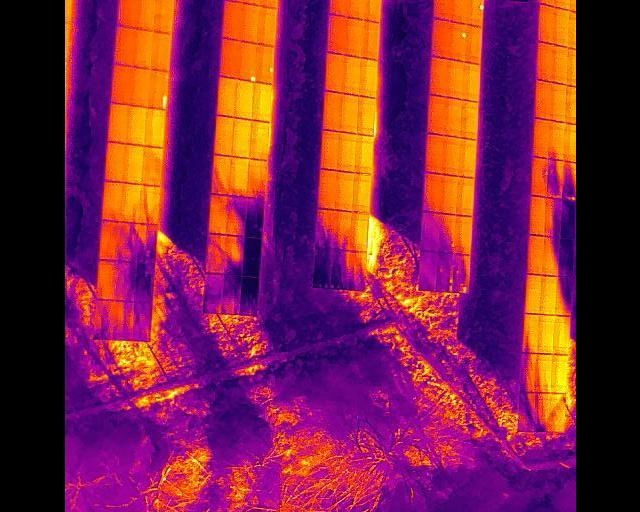Cell: (448, 22, 467, 62), (238, 42, 256, 83), (256, 44, 272, 84), (561, 161, 576, 200)
Cell-Multi: (450, 254, 469, 293), (436, 253, 452, 292), (466, 0, 483, 26)
No-Anomaly: (105, 105, 127, 144), (219, 37, 238, 79), (213, 116, 232, 158), (232, 117, 250, 161), (141, 147, 161, 186), (100, 183, 120, 222), (326, 52, 345, 93), (113, 28, 134, 65), (257, 6, 276, 46), (208, 195, 227, 235), (121, 183, 140, 223), (98, 222, 117, 262), (328, 14, 347, 54), (230, 156, 248, 198), (221, 0, 239, 42), (217, 76, 235, 118), (420, 172, 438, 214), (248, 159, 267, 198), (130, 68, 149, 107), (111, 65, 130, 104), (104, 143, 123, 182), (321, 129, 339, 170), (127, 107, 146, 145), (97, 261, 116, 299), (549, 355, 568, 393), (151, 33, 170, 70), (144, 110, 163, 147), (253, 83, 271, 122), (457, 138, 475, 177), (440, 135, 458, 174), (430, 19, 448, 58), (360, 58, 378, 97), (240, 3, 257, 44), (355, 134, 372, 175), (531, 119, 548, 159), (444, 59, 461, 99), (439, 174, 456, 214), (427, 95, 444, 135), (424, 133, 441, 173), (325, 92, 342, 132), (318, 171, 335, 211), (352, 172, 368, 214), (534, 83, 552, 120), (460, 63, 478, 100), (249, 121, 266, 160), (535, 43, 552, 82), (459, 100, 476, 139), (453, 216, 470, 255), (552, 316, 569, 355), (362, 20, 379, 59), (539, 276, 556, 315), (154, 0, 174, 33), (347, 17, 363, 58), (339, 132, 355, 173), (236, 82, 253, 120), (124, 145, 141, 183), (537, 315, 553, 355), (530, 158, 546, 198), (456, 177, 472, 217), (443, 97, 459, 137), (350, 213, 366, 253), (336, 172, 352, 212), (538, 6, 555, 43), (526, 238, 543, 275), (527, 197, 543, 236), (466, 25, 482, 64), (118, 0, 140, 28), (345, 55, 360, 96), (547, 122, 563, 160), (357, 97, 373, 135), (524, 275, 539, 315), (429, 57, 444, 97), (342, 93, 357, 133), (135, 31, 151, 68), (554, 9, 569, 46), (137, 0, 154, 31), (552, 83, 565, 123), (552, 45, 566, 82), (451, 0, 467, 24), (433, 0, 451, 21), (348, 0, 365, 20), (329, 0, 348, 17), (366, 0, 380, 22), (260, 0, 278, 8), (556, 0, 570, 9)
Shadowing: (94, 300, 115, 340), (136, 223, 155, 265), (139, 186, 159, 225), (114, 300, 133, 341), (224, 235, 243, 275), (418, 252, 437, 292), (133, 302, 152, 341), (211, 155, 229, 196), (205, 274, 223, 315), (117, 223, 135, 264), (244, 198, 263, 236), (313, 251, 332, 289), (134, 265, 152, 304), (436, 214, 454, 253), (223, 275, 240, 316), (316, 210, 333, 251), (116, 263, 134, 301), (243, 236, 260, 276), (419, 212, 436, 252), (240, 276, 257, 315), (227, 196, 244, 235), (207, 235, 224, 274), (547, 393, 564, 432), (546, 160, 563, 199), (541, 237, 558, 276), (334, 210, 350, 251), (516, 394, 533, 432), (520, 313, 536, 353), (544, 198, 560, 238), (555, 277, 571, 316), (560, 200, 576, 239), (557, 239, 573, 277), (333, 251, 349, 289), (535, 354, 550, 394), (519, 354, 534, 394), (533, 394, 548, 433), (350, 252, 365, 290)
Unclassified: (148, 70, 168, 109)
